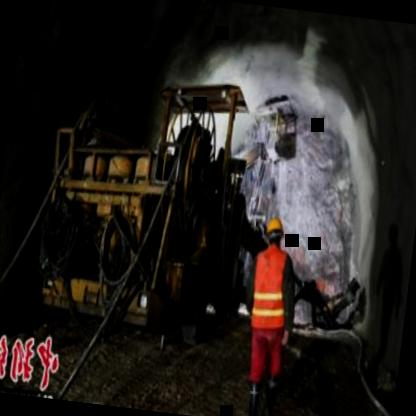helmet: (264, 212, 286, 252)
